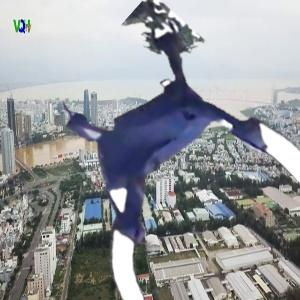drone: (35, 44, 291, 300)
